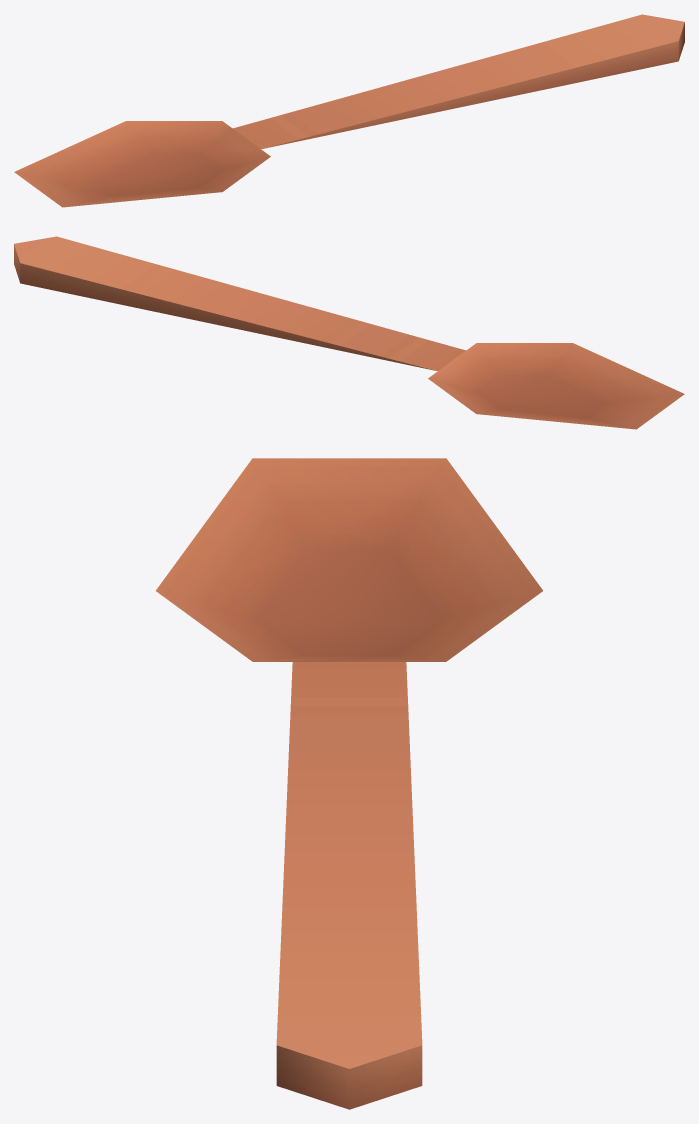
The model's file is sked.glb.
3 views of the same model, one above another, from view 1: azimuth 30°, elevation 25°; view 2: azimuth 150°, elevation 25°; view 3: azimuth 270°, elevation 25° (orthographic). The views are drawn at different scales.
Parts seen in each view (by area): view 1: cooking-spoon; view 2: cooking-spoon; view 3: cooking-spoon.
Part boxes in pixels (bbox=[...]): cooking-spoon: bbox=[14, 14, 684, 207]; cooking-spoon: bbox=[14, 236, 684, 429]; cooking-spoon: bbox=[156, 458, 542, 1109].
Size of the model in its own units: 0.6656 by 0.0244 by 0.1728.
Materials: 1 (1 with a texture image).
